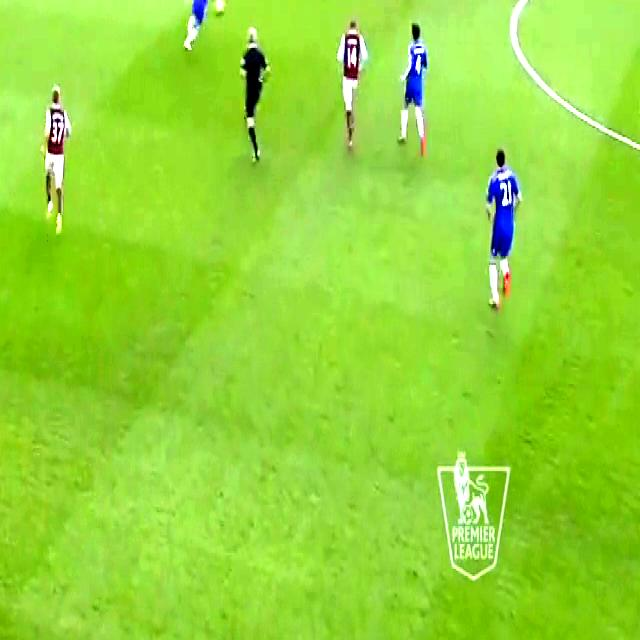ball: (211, 0, 228, 14)
referee: (236, 12, 276, 170)
soccer-player: (480, 136, 524, 318), (36, 69, 74, 239), (330, 6, 369, 164), (397, 20, 433, 162), (184, 0, 212, 57), (397, 0, 450, 7)
